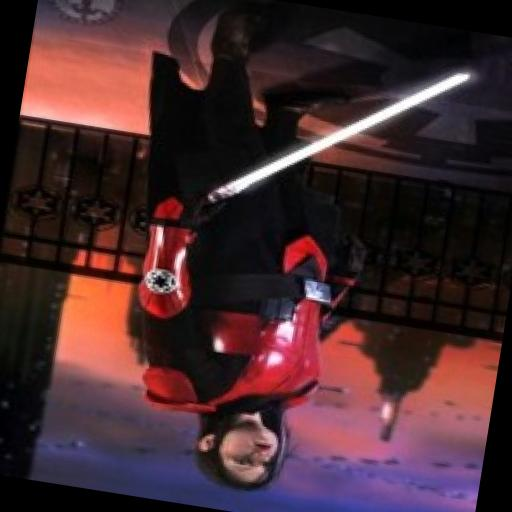human: (111, 10, 414, 511)
lightsaber: (130, 15, 479, 280)
